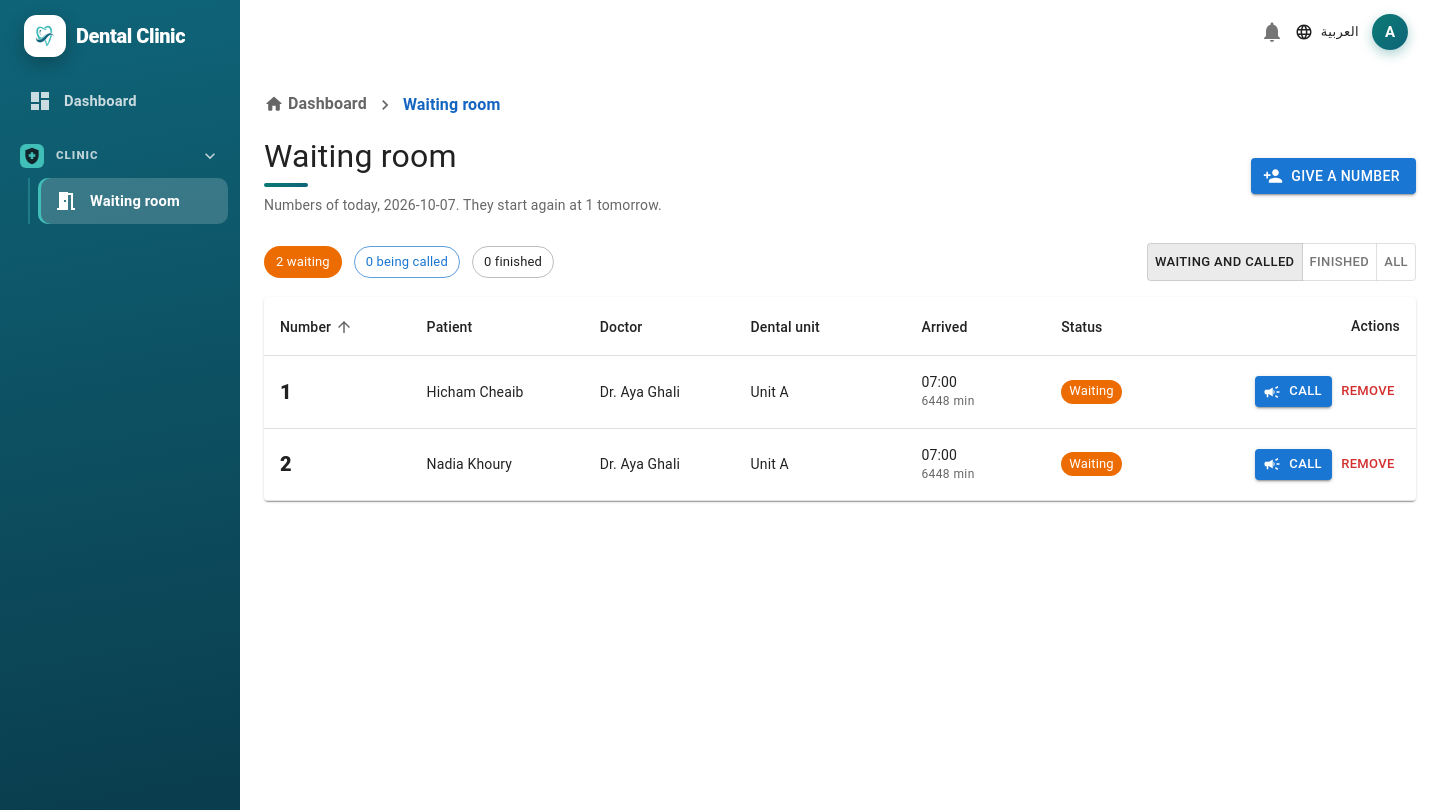
Test case: the waiting room page › shows the server’s refusal
Check: the heading "Waiting room" is shown, box [264,137,457,175]
Click the button with aria-label "Call number 1": (1294, 392) [1255,376,1332,407]
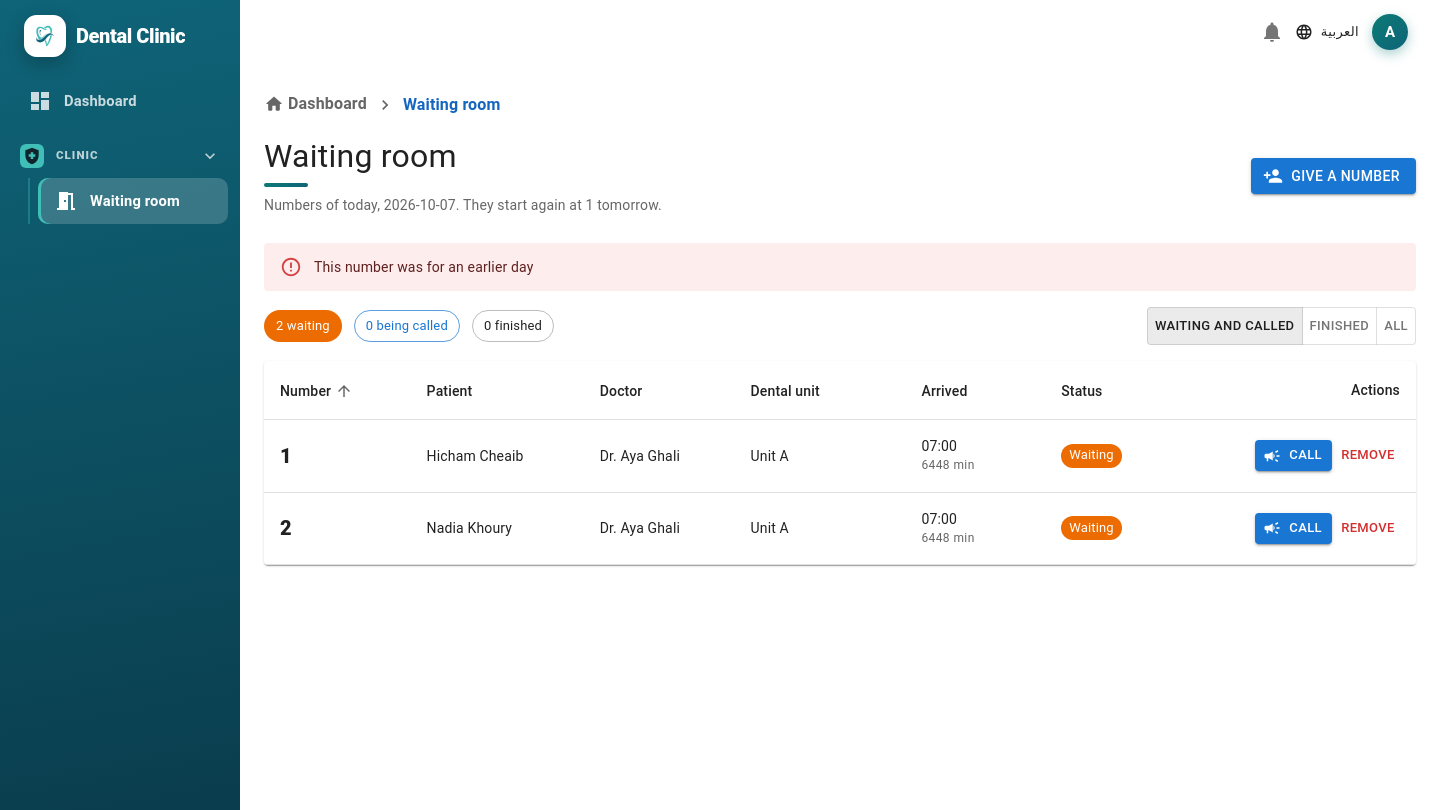
Check: the message reads "This number was for an earlier day", box [314,258,534,274]
